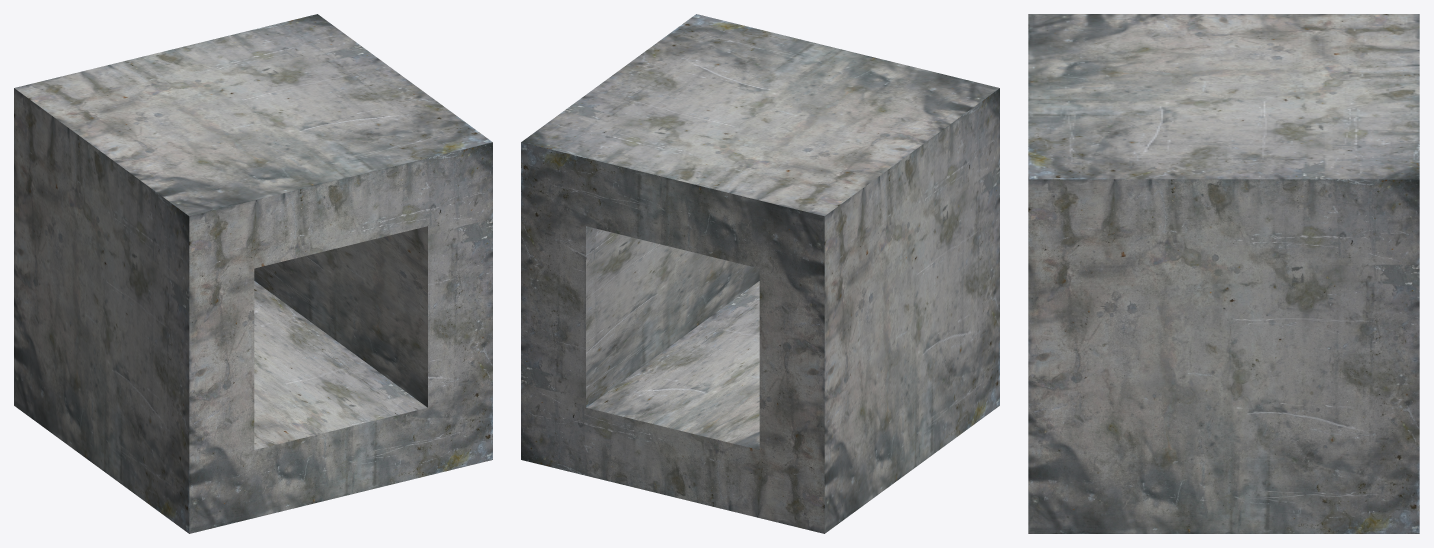
File: Lueftungsschacht_02.fbx
The picture shows the model from 3 angles, left to right: view 1: azimuth 30°, elevation 25°; view 2: azimuth 150°, elevation 25°; view 3: azimuth 270°, elevation 25°; orthographic projection. The views are drawn at different scales.
Parts seen in each view (by area): view 1: pCube20; view 2: pCube20; view 3: pCube20.
Part boxes in pixels (x1,y1,x2,y2): pCube20: [14, 14, 492, 533]; pCube20: [521, 14, 999, 533]; pCube20: [1028, 14, 1419, 533].
Bounding box in the file's own units: 17.5 × 17.5 × 17.5.
Materials: 1 (1 with a texture image).
